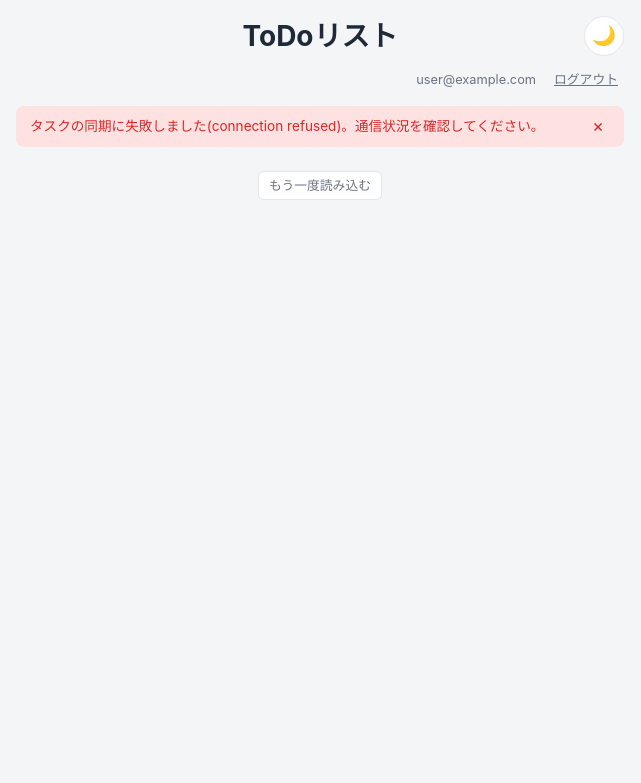
Test: ログインしたあと › 読み込みに失敗したら、エラーと再試行ボタンを表示する
Check: the message shows "connection refused", box [30, 118, 544, 134]
Click the button "もう一度読み込む": (320, 185) [258, 171, 382, 200]
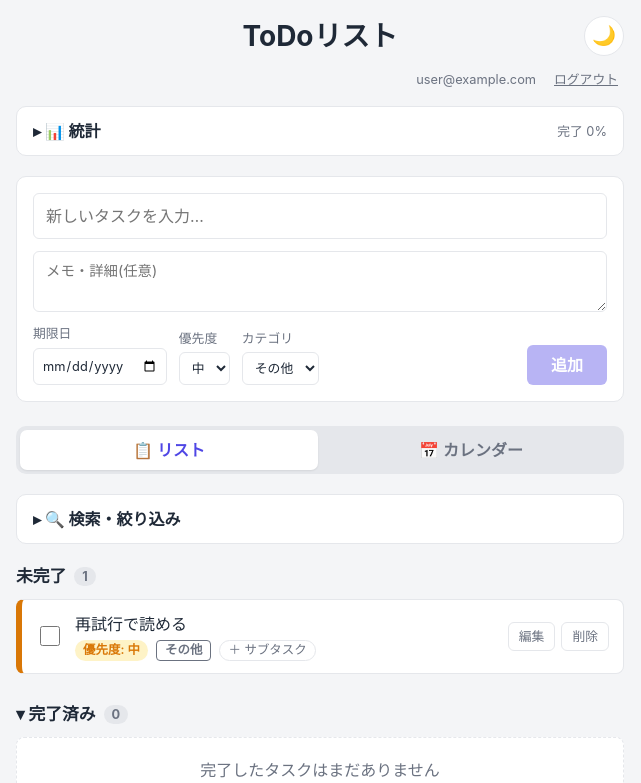
Check: the text "再試行で読める" is shown, box [75, 614, 187, 634]
